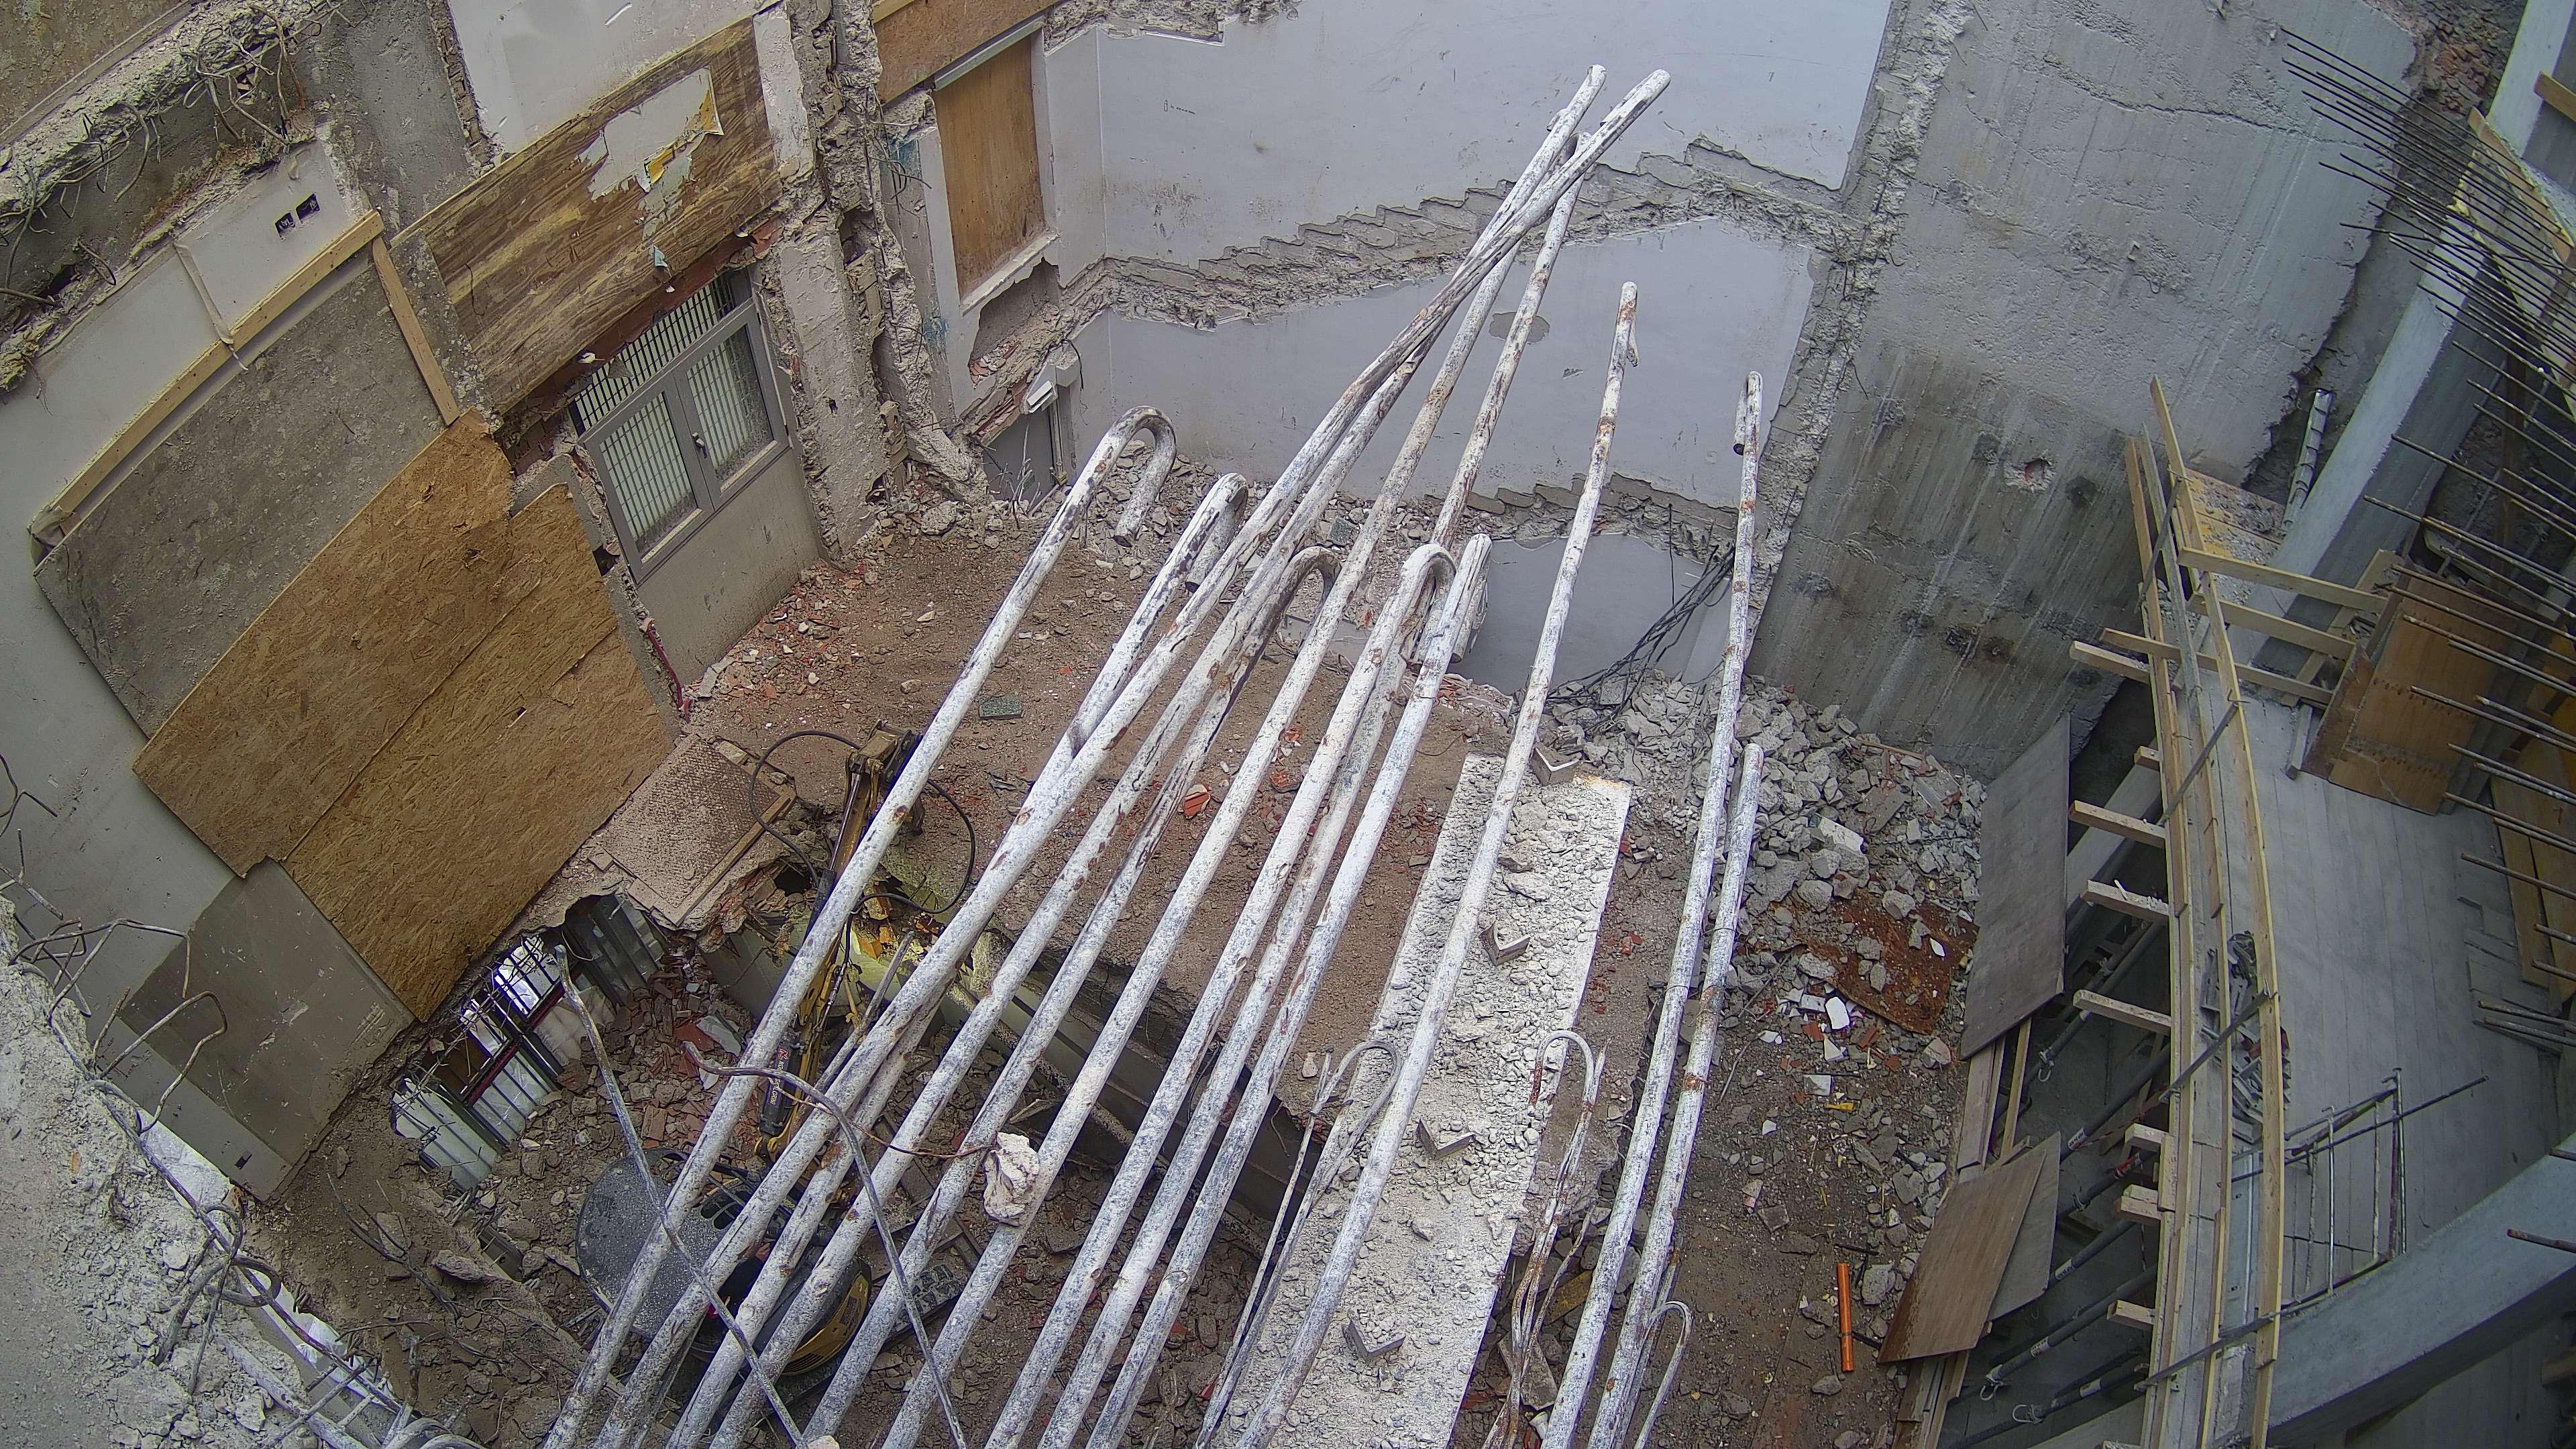excavator: (573, 729, 1016, 1449)
